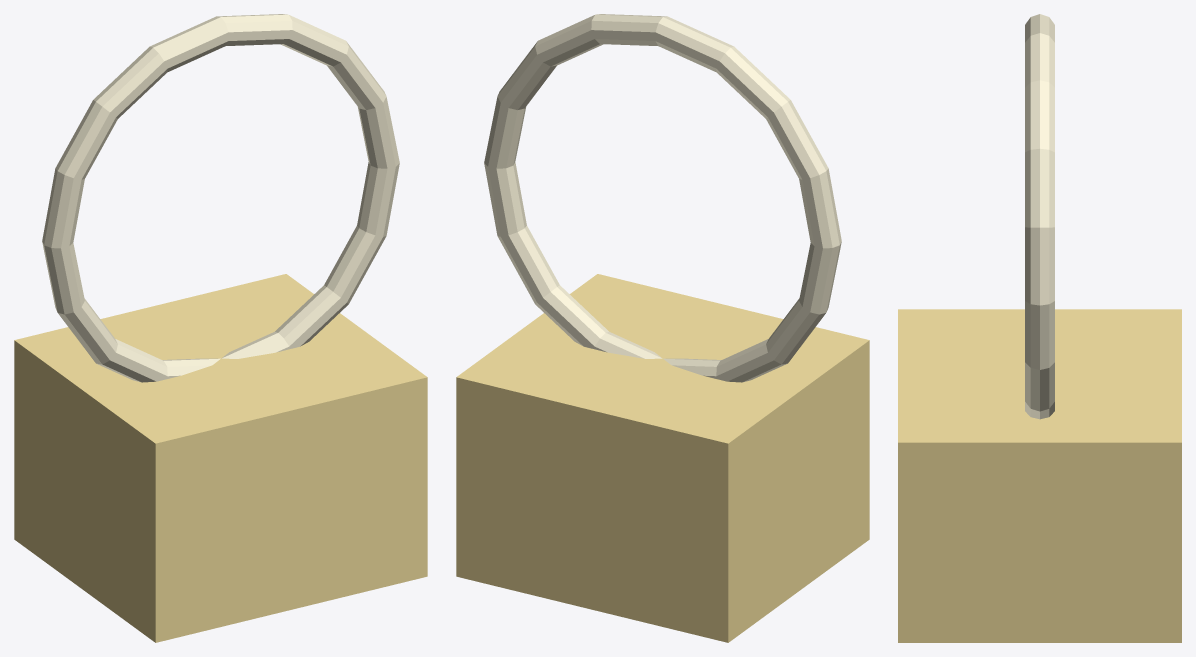
File: pickup.house-jp.v1.glb
3 views of the same model, side by side, from view 1: azimuth 30°, elevation 25°; view 2: azimuth 150°, elevation 25°; view 3: azimuth 270°, elevation 25° (orthographic).
Visible parts, largest first — view 1: pickup.house-jp.v1_core, pickup.house-jp.v1_trim; view 2: pickup.house-jp.v1_core, pickup.house-jp.v1_trim; view 3: pickup.house-jp.v1_core, pickup.house-jp.v1_trim.
Boxes of the visible parts, x1,y1,x2,y2 form: pickup.house-jp.v1_core: [14, 274, 427, 642]; pickup.house-jp.v1_trim: [42, 14, 399, 382]; pickup.house-jp.v1_core: [456, 274, 869, 642]; pickup.house-jp.v1_trim: [484, 14, 841, 382]; pickup.house-jp.v1_core: [898, 309, 1181, 642]; pickup.house-jp.v1_trim: [1025, 14, 1054, 419].
Size of the model in its own units: 0.26 by 0.38 by 0.18.
